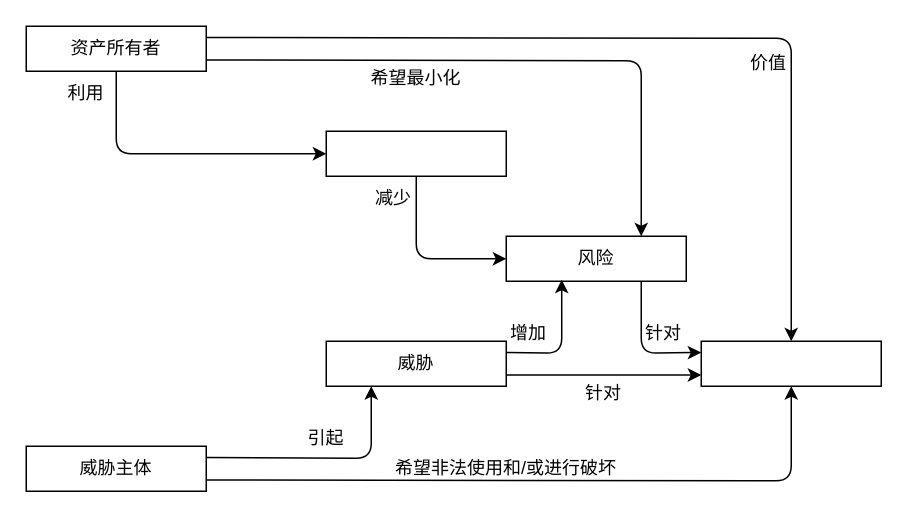
The diagram is 908 pixels wide and 519 high, and some of its shapes have lost their labels. Here are the shapes that lost their labels. From the top down, the box of each, then its label:
(325, 130, 506, 176): 对策
(700, 340, 881, 386): 资产
